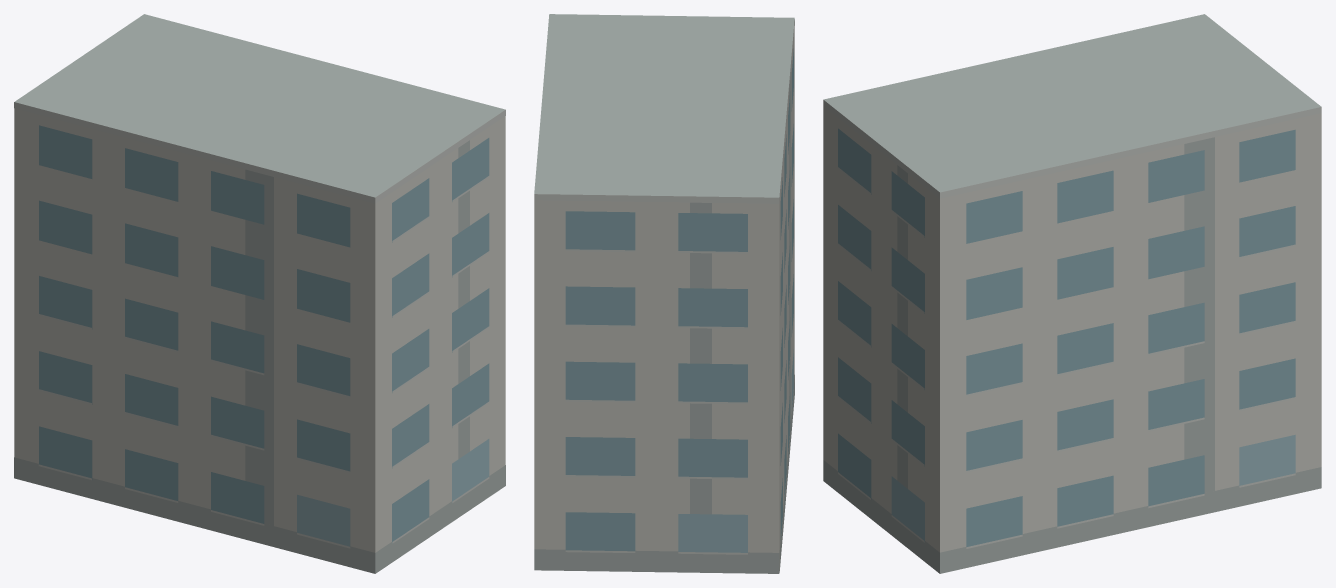
The model's file is survey-upis-32842060.glb.
3 renders of one model, left to right at view 1: azimuth 30°, elevation 25°; view 2: azimuth 150°, elevation 25°; view 3: azimuth 270°, elevation 25°, orthographic.
Visible parts, largest first — view 1: survey-upis-32842060.tmp; view 2: survey-upis-32842060.tmp; view 3: survey-upis-32842060.tmp.
Boxes of the visible parts, box(x1,y1,x2,y2) form: survey-upis-32842060.tmp: box(14, 14, 505, 573); survey-upis-32842060.tmp: box(534, 14, 794, 573); survey-upis-32842060.tmp: box(823, 14, 1321, 573).
Bounding box in the file's own units: 14.66 × 14.6 × 17.3.
